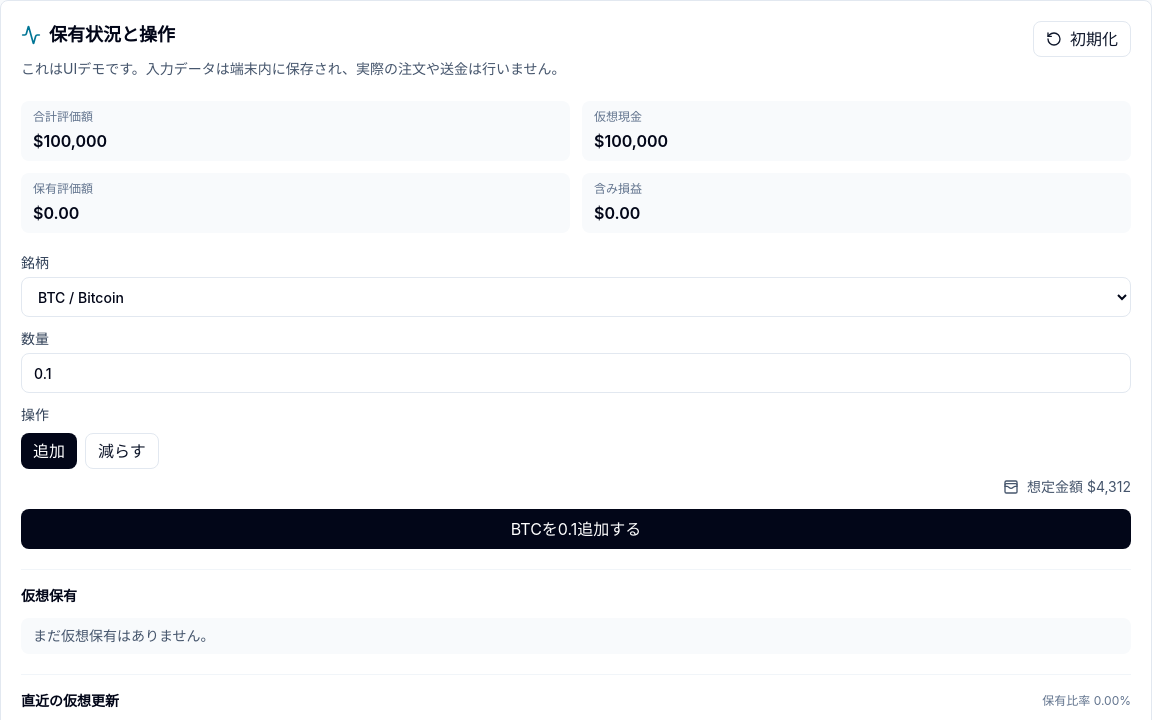
Test: VirtualPortfolioPanel › 減らすを選んで実行したら保有不足メッセージを表示する
Click the button "減らす" at (122, 451), box [85, 433, 159, 469]
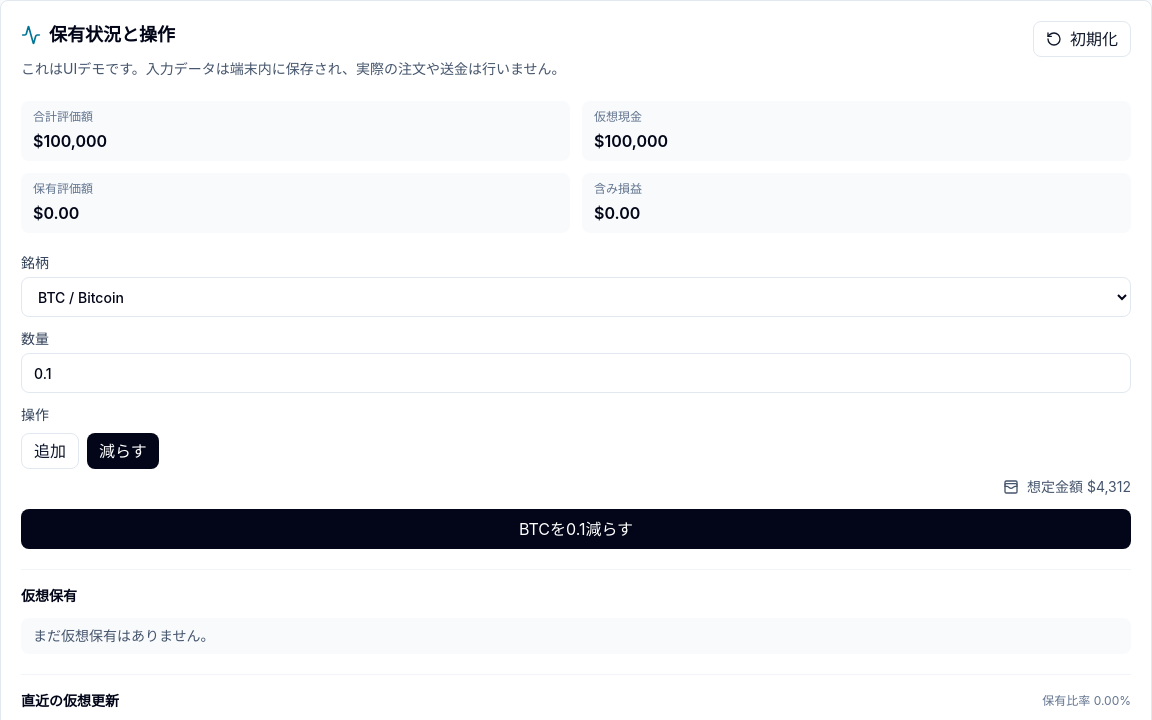
Click the button "BTCを0.1減らす" at (576, 529), box [21, 509, 1131, 549]
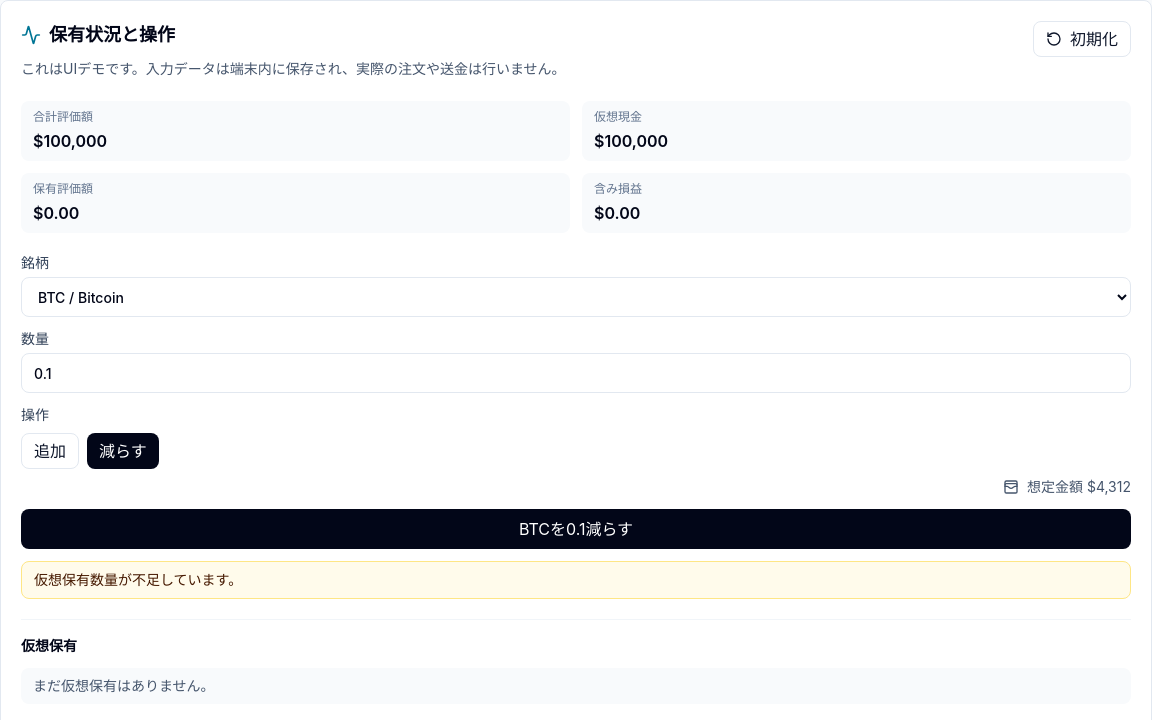
Expected: the text "仮想保有数量が不足しています。" is shown, [21, 561, 1131, 599]
